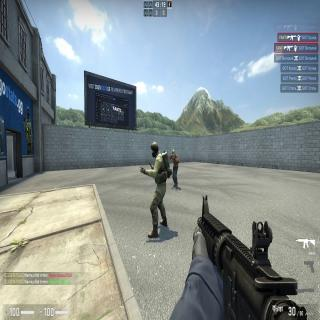CT-Body: (149, 140, 167, 240)
CT-Head: (151, 142, 159, 158)
T-Body: (172, 150, 177, 188)
T-Head: (172, 150, 175, 156)
